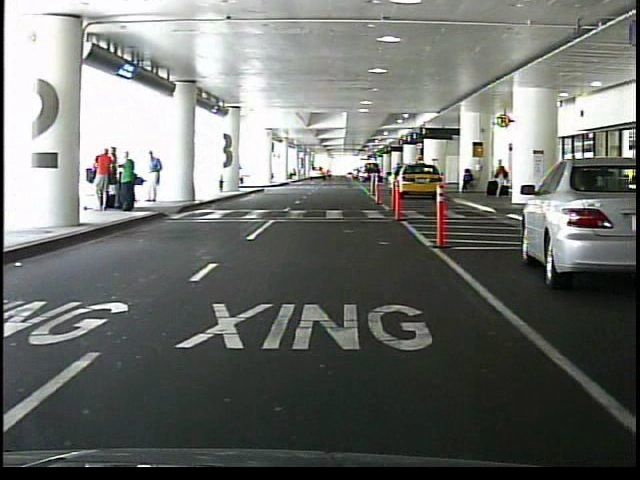person: (120, 152, 139, 215), (97, 148, 114, 212), (146, 153, 165, 207), (109, 146, 123, 210), (493, 160, 507, 200), (459, 170, 475, 197)
